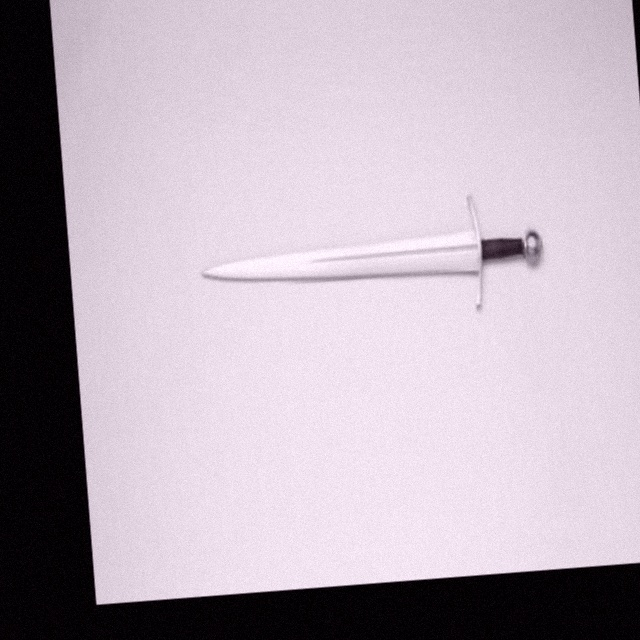Sharp-Object: (196, 230, 552, 303)
